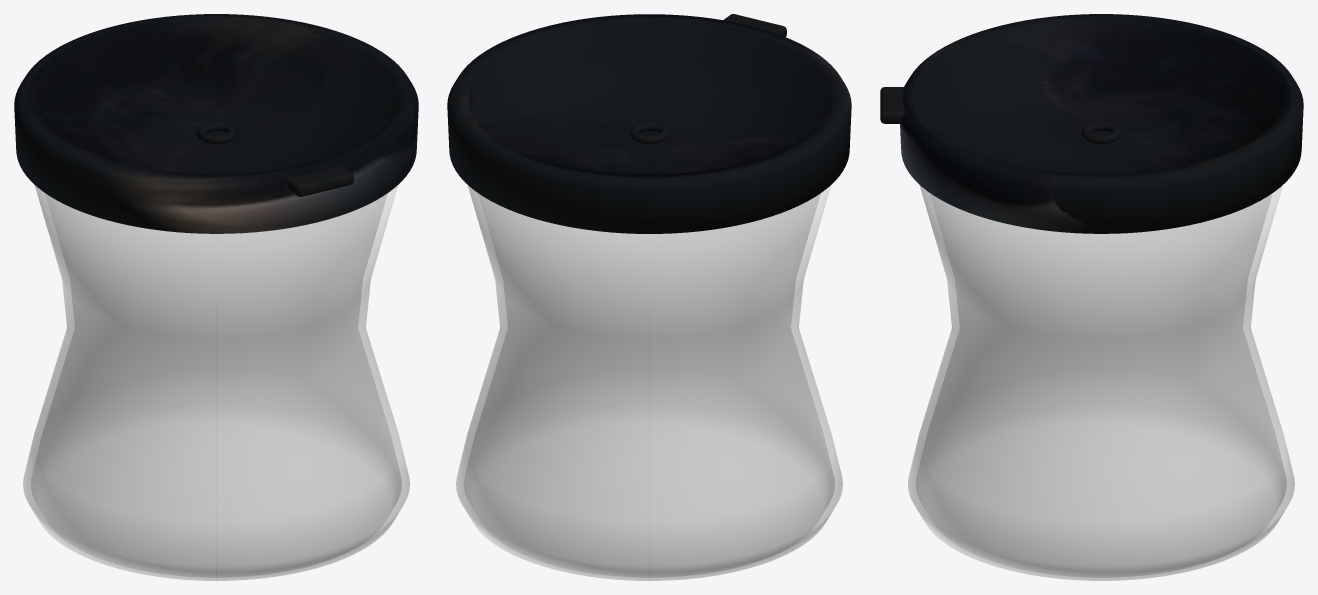
3 views of the same model, side by side, from view 1: azimuth 30°, elevation 25°; view 2: azimuth 150°, elevation 25°; view 3: azimuth 270°, elevation 25° (orthographic).
Visible parts, largest first — view 1: flexible silicone cup, recessed press fit ice mold cap, cap pull tab, fill hole rim; view 2: flexible silicone cup, recessed press fit ice mold cap, fill hole rim, cap pull tab; view 3: flexible silicone cup, recessed press fit ice mold cap, cap pull tab, fill hole rim.
Boxes of the visible parts, x1=… form: flexible silicone cup: x1=23, y1=185, x2=409, y2=580; recessed press fit ice mold cap: x1=14, y1=14, x2=418, y2=233; cap pull tab: x1=287, y1=165, x2=353, y2=196; fill hole rim: x1=196, y1=122, x2=236, y2=144; flexible silicone cup: x1=456, y1=185, x2=842, y2=580; recessed press fit ice mold cap: x1=447, y1=14, x2=851, y2=233; fill hole rim: x1=629, y1=122, x2=669, y2=144; cap pull tab: x1=723, y1=14, x2=786, y2=36; flexible silicone cup: x1=908, y1=185, x2=1294, y2=580; recessed press fit ice mold cap: x1=900, y1=14, x2=1303, y2=233; cap pull tab: x1=880, y1=87, x2=904, y2=123; fill hole rim: x1=1081, y1=122, x2=1121, y2=144.
Size of the model in its own units: 0.0867 by 0.0971 by 0.0907.
3 materials, 1 textured.
